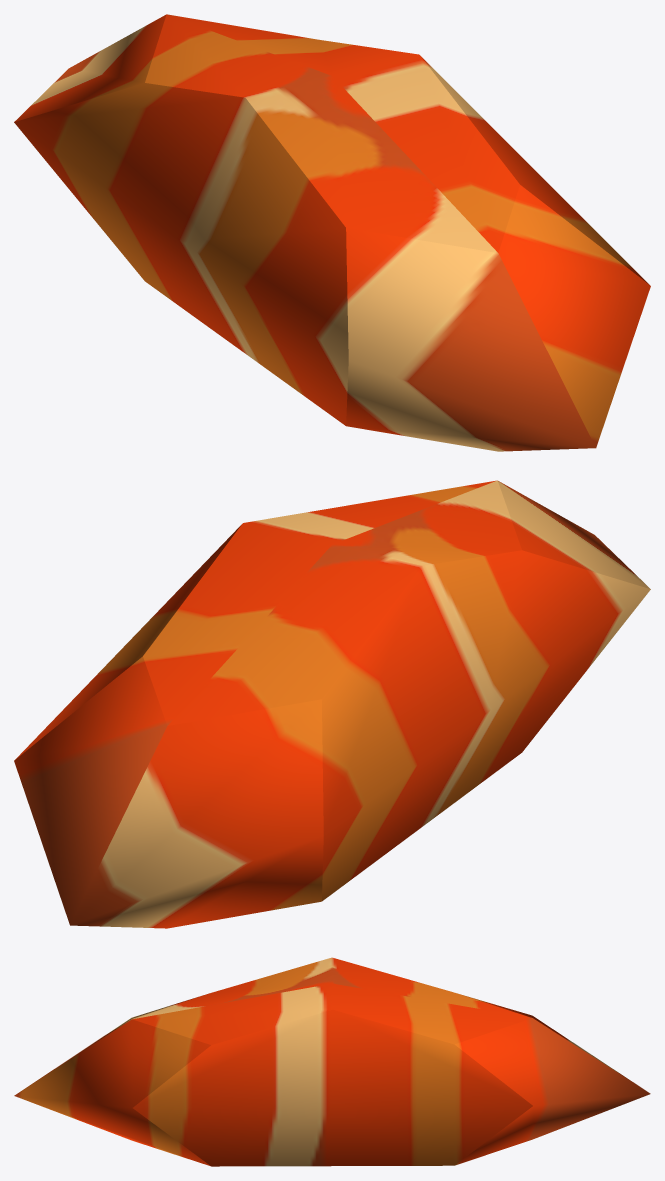
Rendered from Food_Sashimi.fbx.
3 views of the same model, one above another, from view 1: azimuth 30°, elevation 25°; view 2: azimuth 150°, elevation 25°; view 3: azimuth 270°, elevation 25° (orthographic). The views are drawn at different scales.
Visible parts, largest first — view 1: pasted__Egrols_1_12; view 2: pasted__Egrols_1_12; view 3: pasted__Egrols_1_12.
Part boxes in pixels (left/top/right/bottom): pasted__Egrols_1_12: left=14, top=14, right=650, bottom=451; pasted__Egrols_1_12: left=14, top=480, right=650, bottom=928; pasted__Egrols_1_12: left=14, top=957, right=650, bottom=1166.
Bounding box in the file's own units: 10.31 × 8.14 × 30.03.
